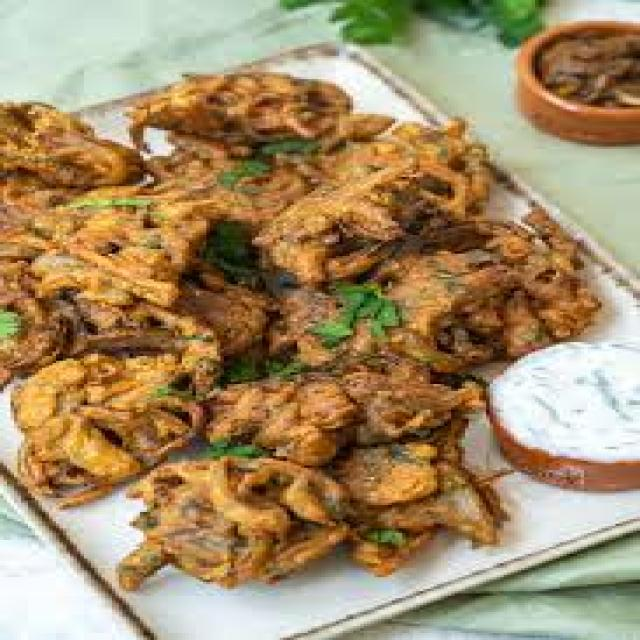BAJI: (228, 103, 488, 297), (312, 227, 579, 376), (101, 444, 332, 595), (208, 322, 434, 476), (4, 344, 200, 494), (21, 161, 220, 305), (138, 79, 347, 184), (347, 469, 534, 543)
